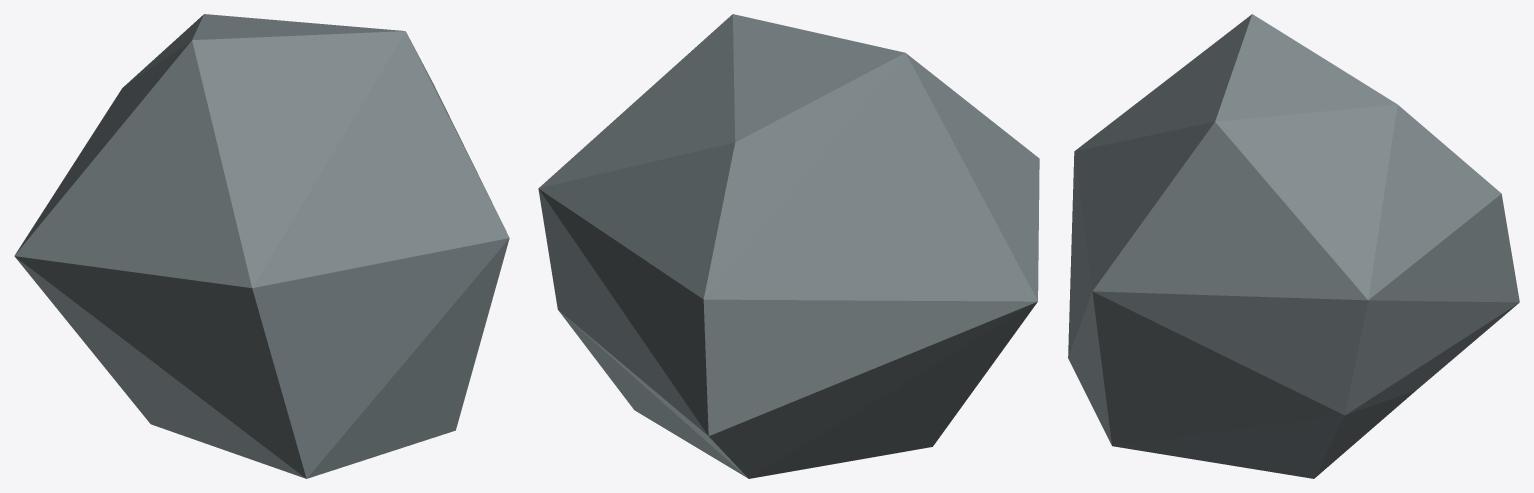
Rendered from Rock_04.fbx.
The picture shows the model from 3 angles, left to right: view 1: azimuth 30°, elevation 25°; view 2: azimuth 150°, elevation 25°; view 3: azimuth 270°, elevation 25°; orthographic projection. The views are drawn at different scales.
Visible parts, largest first — view 1: Rock_04; view 2: Rock_04; view 3: Rock_04.
Part boxes in pixels (x1,y1,x2,y2): Rock_04: (14, 14, 509, 478); Rock_04: (538, 14, 1039, 478); Rock_04: (1068, 14, 1519, 478).
Size of the model in its own units: 60.22 by 48.97 by 55.92.
